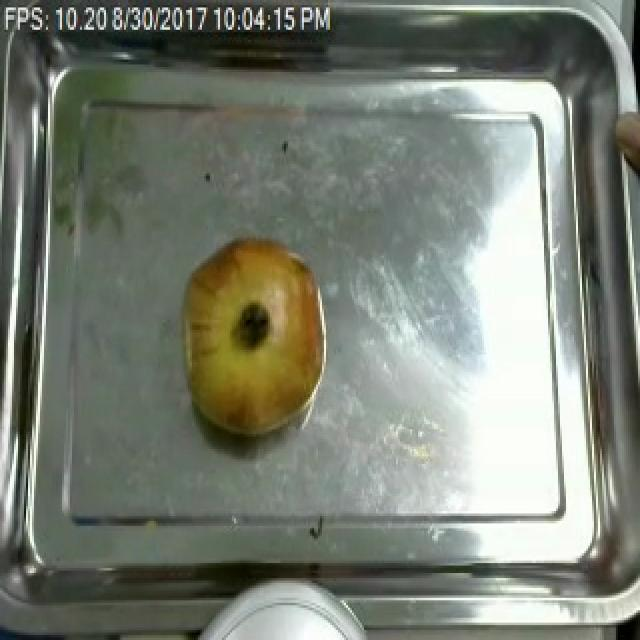fruit: (170, 218, 334, 452), (608, 99, 640, 191)
